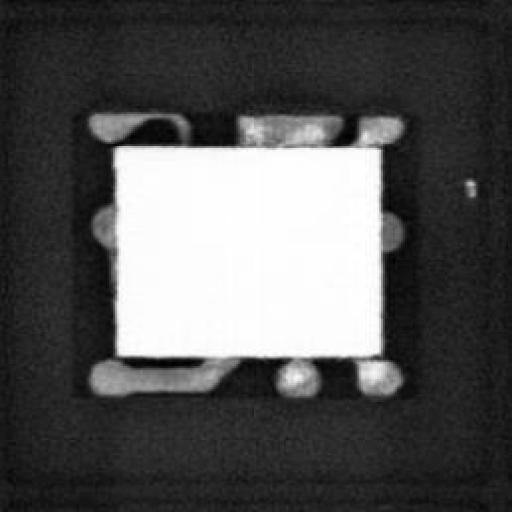DIE_INK: (460, 175, 478, 199)
